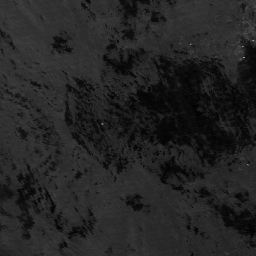Target: (99, 121, 105, 127)
